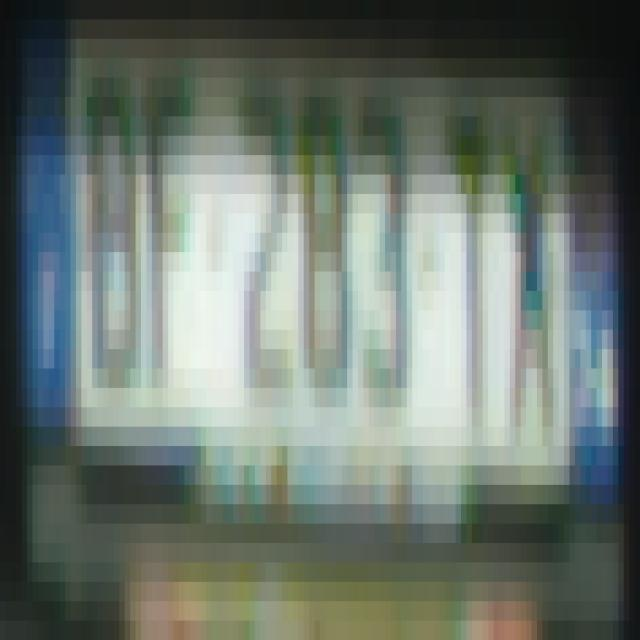Autre: (14, 28, 624, 558)
